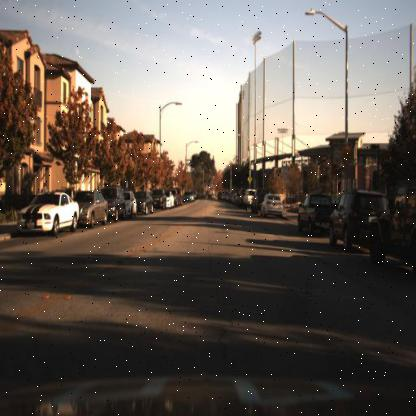car: (367, 176, 415, 275), (325, 185, 392, 249), (15, 190, 79, 236), (294, 191, 334, 235), (74, 190, 112, 228), (75, 191, 110, 227), (104, 184, 126, 220), (258, 192, 282, 220), (134, 189, 156, 218), (121, 189, 138, 223), (135, 189, 153, 216), (124, 186, 139, 216), (152, 186, 168, 211), (164, 189, 176, 212)
